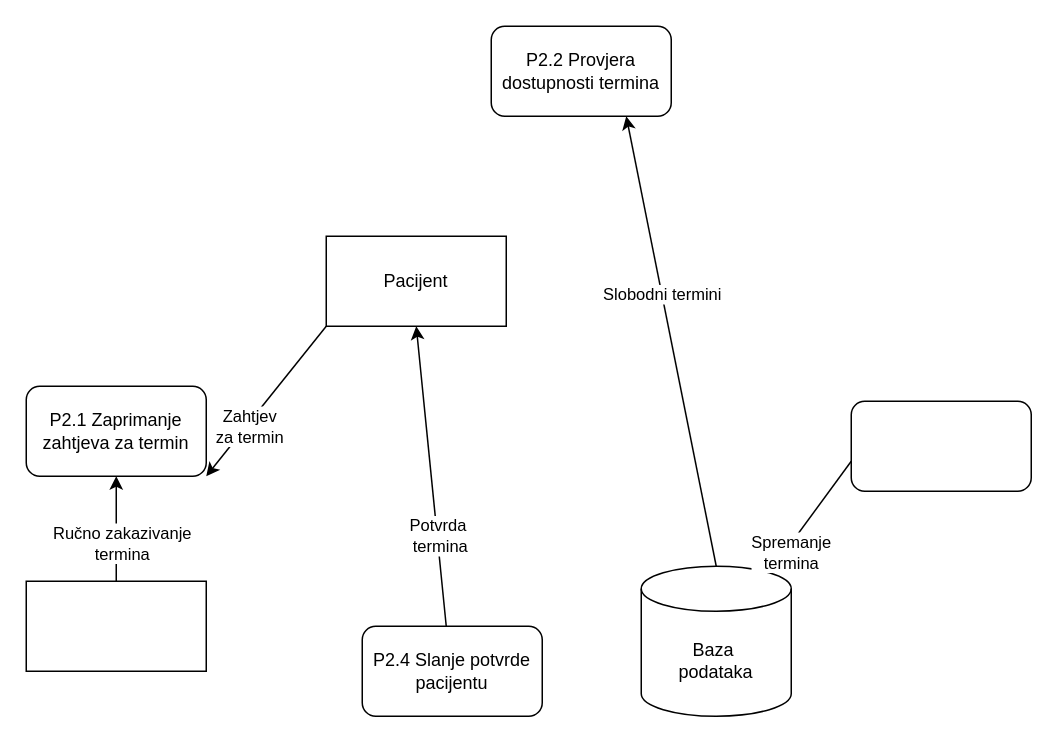
The diagram is 1058 pixels wide and 743 high, and some of its shapes have lost their labels. Each missing label, with the centre of its shape:
"Administracija" goes at pixel 115 625.
"P2.3 Spremanje termina u bazu" goes at pixel 940 445.
